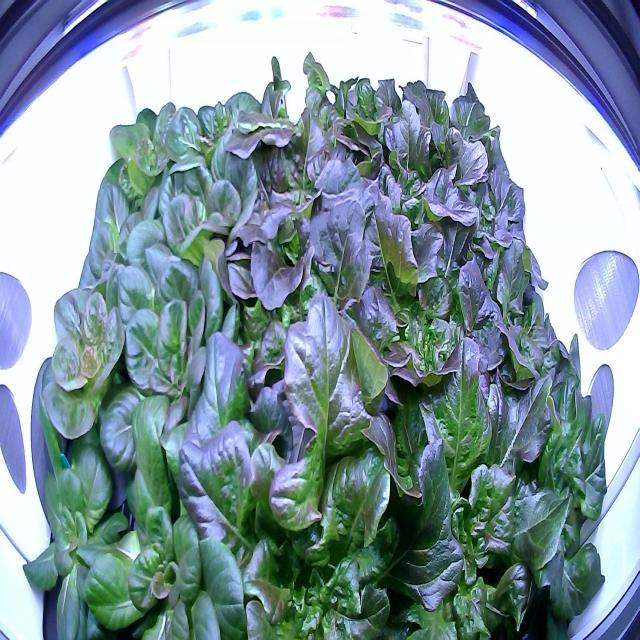young: (77, 392, 253, 638), (94, 230, 250, 475), (9, 379, 154, 636), (24, 239, 145, 457), (137, 134, 260, 307), (73, 166, 164, 329), (94, 81, 196, 218), (165, 84, 269, 206)
